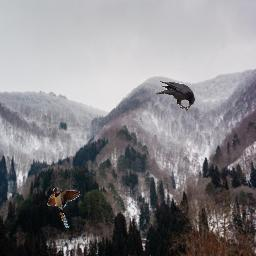Crow: (155, 81, 195, 112)
Swallow: (47, 188, 80, 228)
